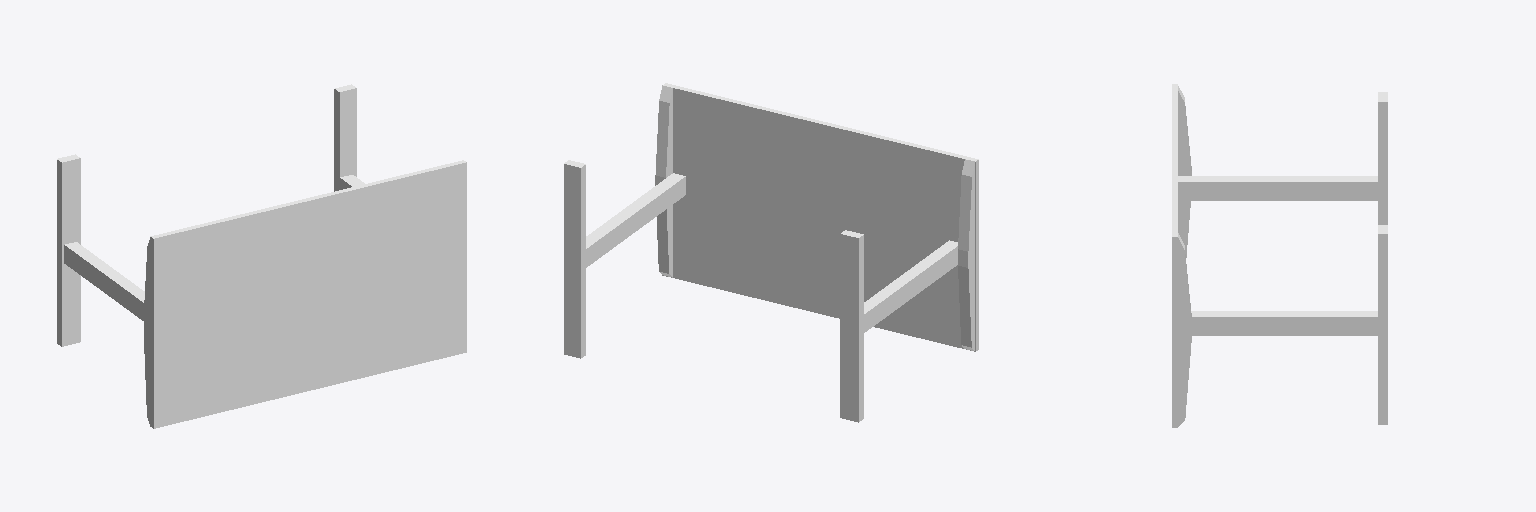
File: OfficeDesk.obj
3 views of the same model, side by side, from view 1: azimuth 30°, elevation 25°; view 2: azimuth 150°, elevation 25°; view 3: azimuth 270°, elevation 25° (orthographic).
Visible parts, largest first — view 1: 设计图层-1; view 2: 设计图层-1; view 3: 设计图层-1.
Boxes of the visible parts, x1=… form: 设计图层-1: x1=57, y1=84, x2=466, y2=428; 设计图层-1: x1=564, y1=83, x2=978, y2=422; 设计图层-1: x1=1172, y1=84, x2=1387, y2=427.
Size of the model in its own units: 1.19 by 0.6929 by 0.714.